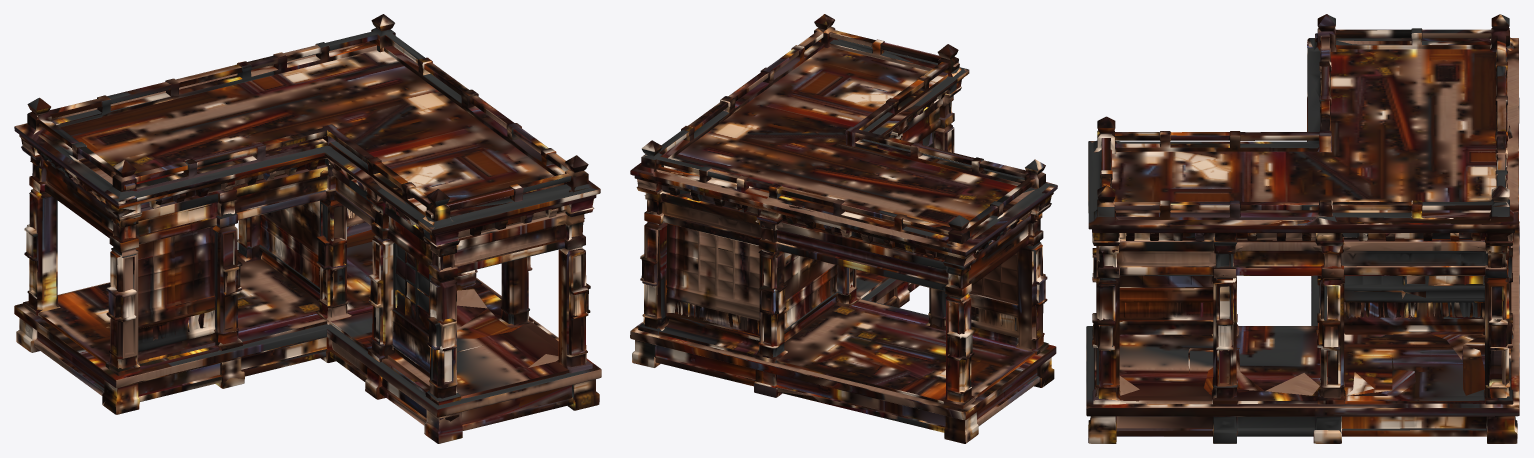
The model's file is HallWayWithTurn1.fbx.
3 renders of one model, left to right at view 1: azimuth 30°, elevation 25°; view 2: azimuth 150°, elevation 25°; view 3: azimuth 270°, elevation 25°, orthographic. The views are drawn at different scales.
Parts seen in each view (by area): view 1: node_0; view 2: node_0; view 3: node_0.
Part boxes in pixels (x1,y1,x2,y2): node_0: [14, 14, 601, 443]; node_0: [630, 14, 1057, 443]; node_0: [1086, 14, 1519, 443].
Bounding box in the file's own units: 79.03 × 49.72 × 77.34.
